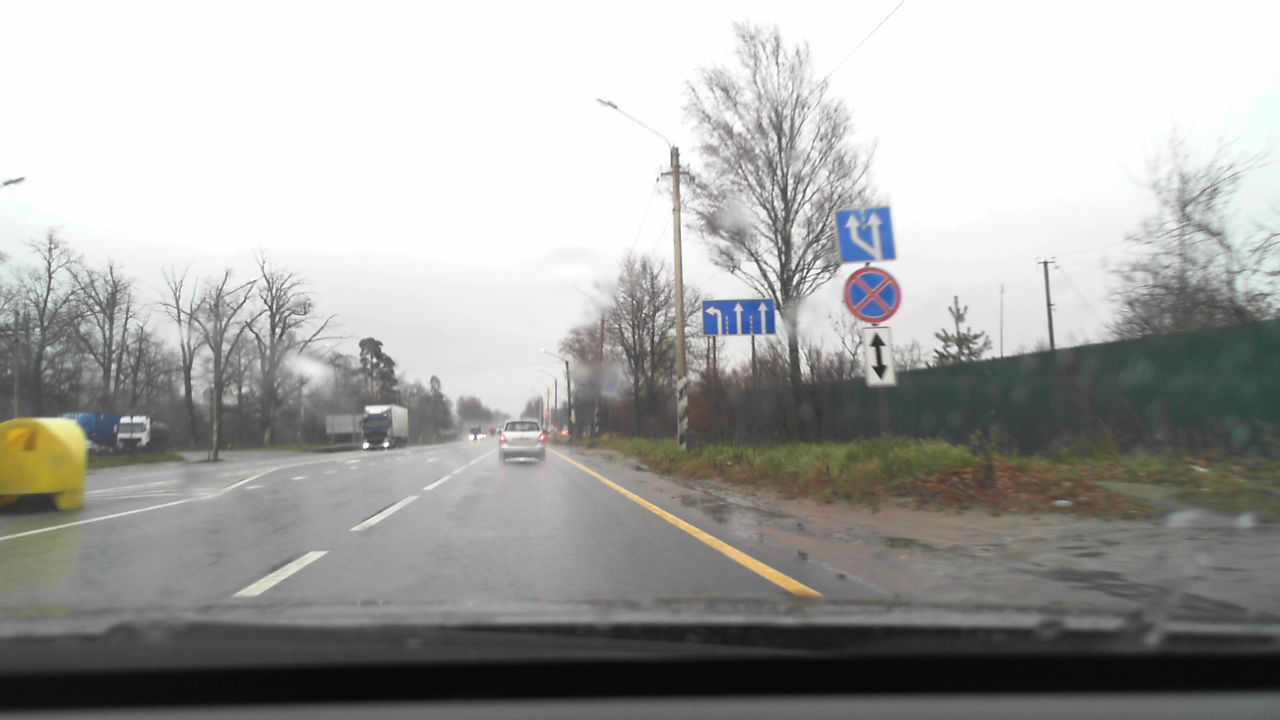No Parking: (844, 267, 900, 322)
